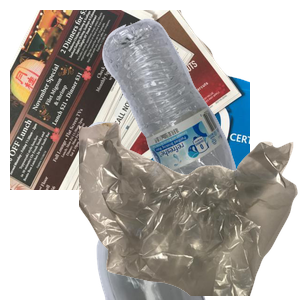glass: (81, 120, 300, 300)
paper: (10, 10, 250, 190)
plastic: (100, 16, 300, 196)
trash: (79, 120, 300, 300)
